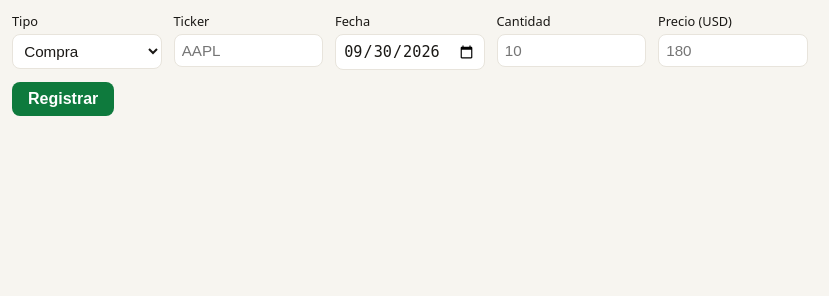
Test: TradeForm › validates es-AR: ticker, date, quantity and price are required
Type "0" into the field with test id "trade-quantity" at (571, 51), box 496,34 -> 646,67
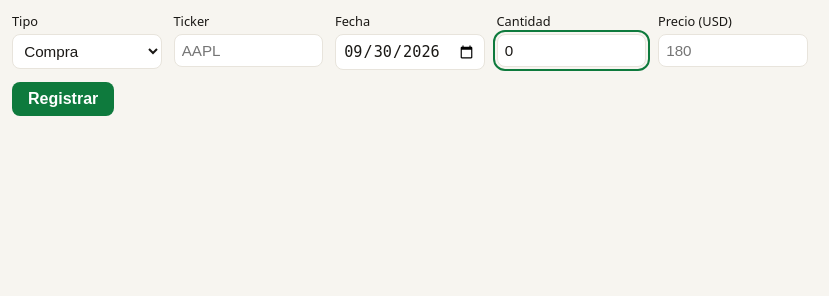
Type "0" into the field with test id "trade-price" at (733, 51), box 658,34 -> 808,67
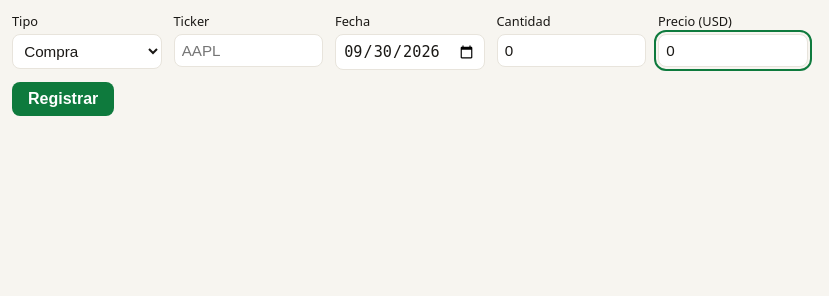
Click the button with test id "submit" at (63, 99), box 12,82 -> 114,116
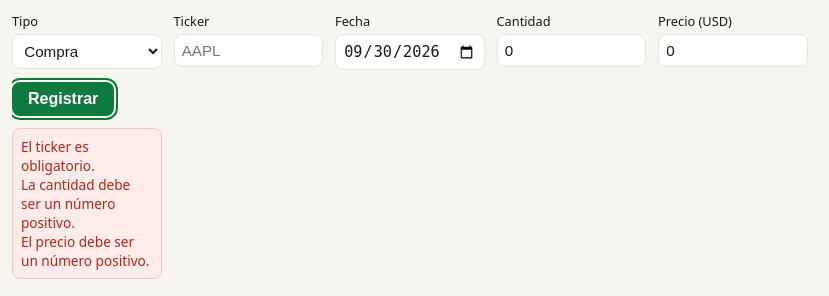
Now the text "El ticker es obligatorio." is shown, box 21,137 -> 95,175
Now the text "La cantidad debe ser un número positivo." is shown, box 21,175 -> 130,232
Now the text "El precio debe ser un número positivo." is shown, box 21,232 -> 152,270
